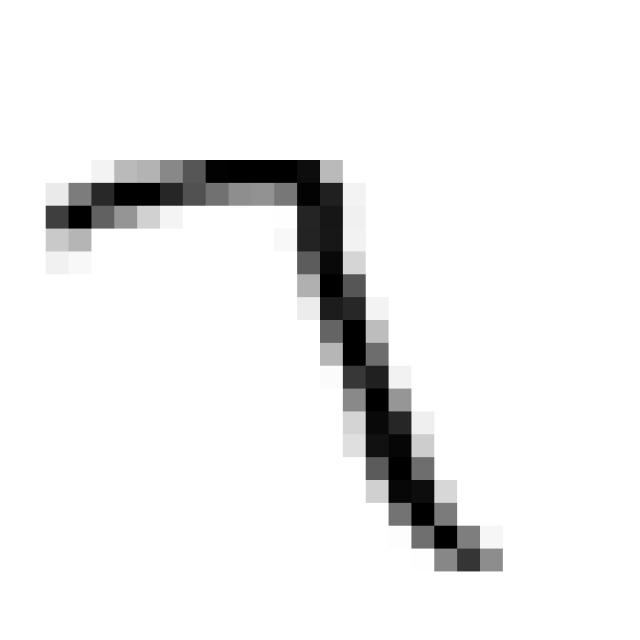6 -six-: (29, 135, 520, 590)
